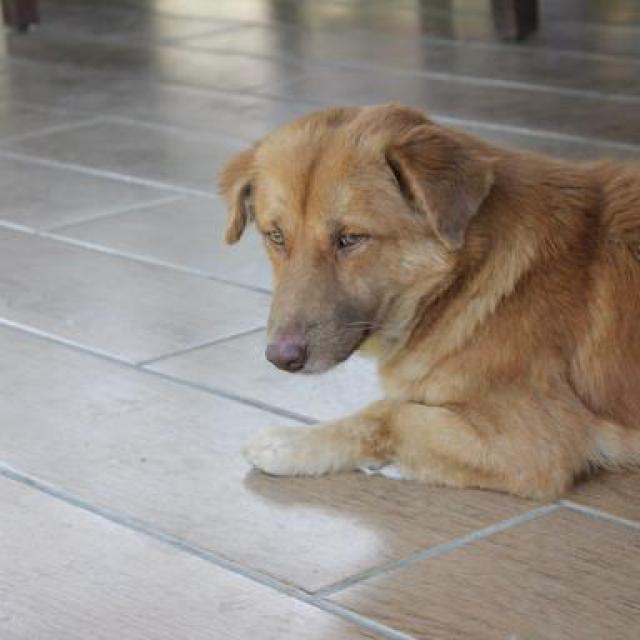sad: (202, 78, 624, 546)
